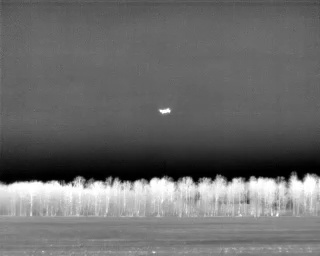DRONE: (156, 103, 175, 118)
